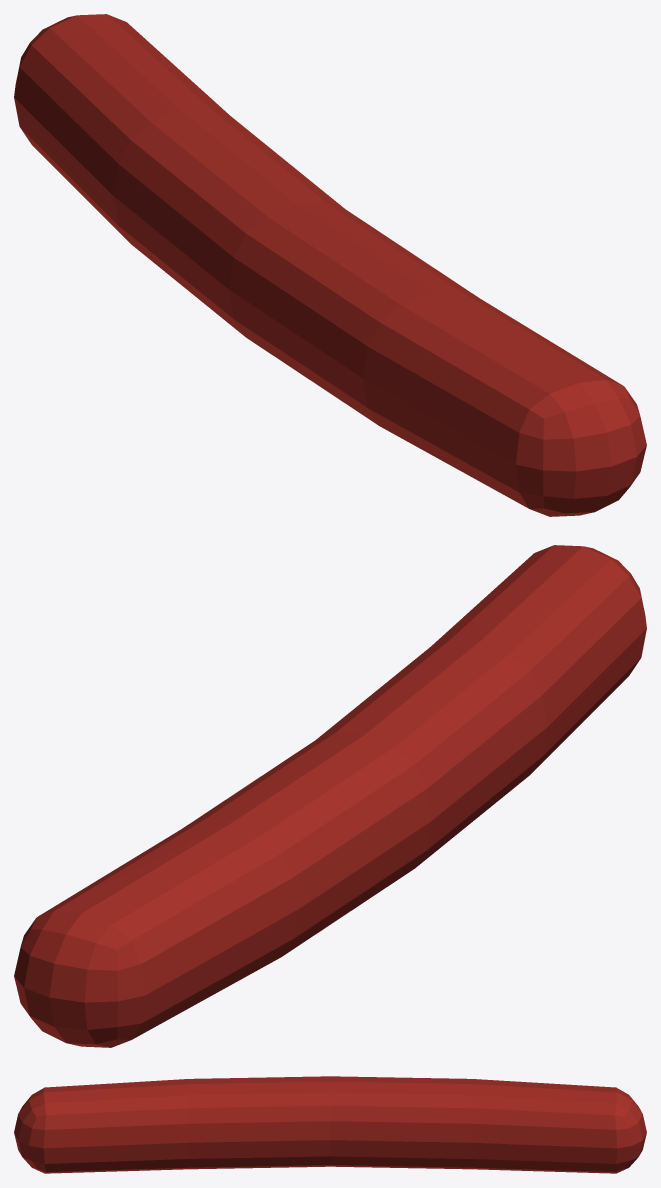
Rendered from SM_Props_Interior_SuperMarket_Item_Food_Meat_02.fbx.
3 renders of one model, top to bottom at view 1: azimuth 30°, elevation 25°; view 2: azimuth 150°, elevation 25°; view 3: azimuth 270°, elevation 25°, orthographic. The views are drawn at different scales.
Visible parts, largest first — view 1: SM_Props_Interior_SuperMarket_Item_Food_Meat_02; view 2: SM_Props_Interior_SuperMarket_Item_Food_Meat_02; view 3: SM_Props_Interior_SuperMarket_Item_Food_Meat_02.
Part boxes in pixels (bbox=[...]): SM_Props_Interior_SuperMarket_Item_Food_Meat_02: bbox=[14, 14, 646, 516]; SM_Props_Interior_SuperMarket_Item_Food_Meat_02: bbox=[14, 545, 646, 1047]; SM_Props_Interior_SuperMarket_Item_Food_Meat_02: bbox=[14, 1076, 646, 1173].
Size of the model in its own units: 3.16 by 2.59 by 18.57.
